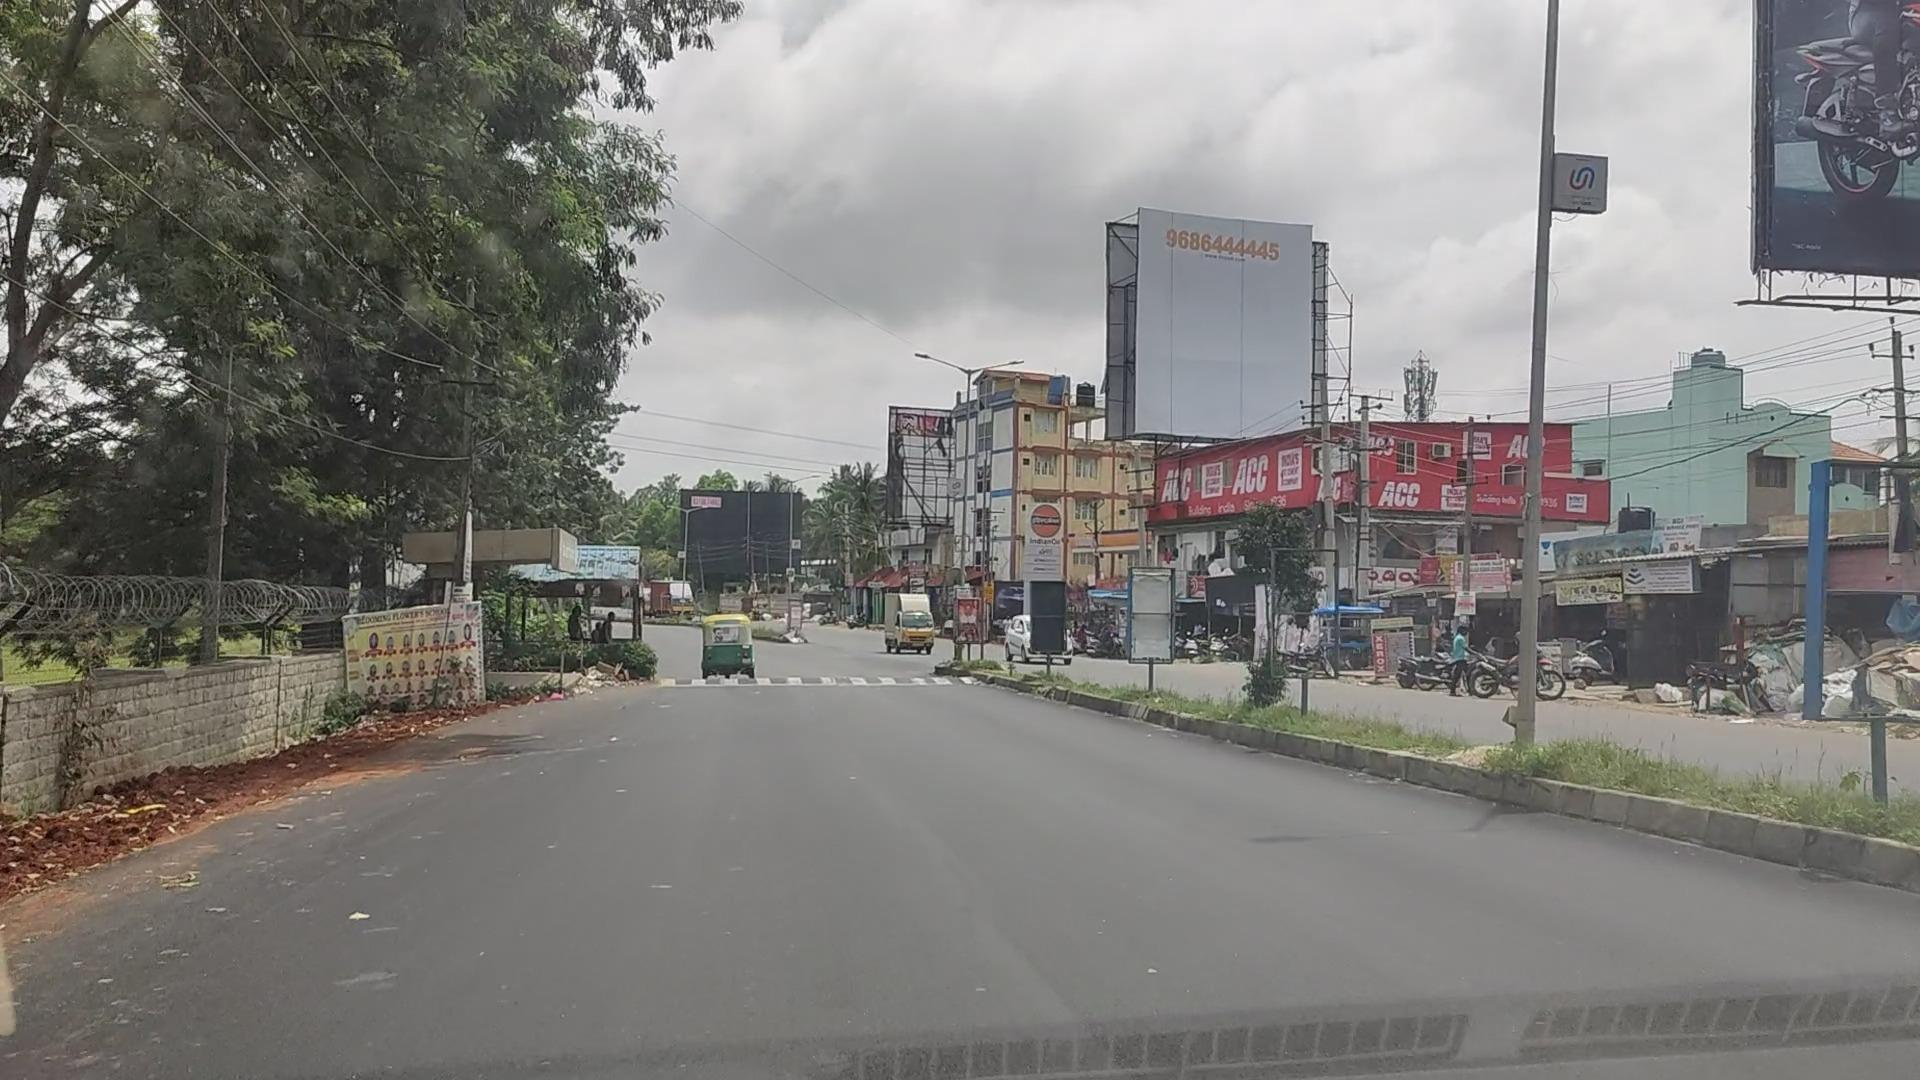LMV: (704, 613, 754, 678)
SpeedBump: (674, 670, 968, 692)
